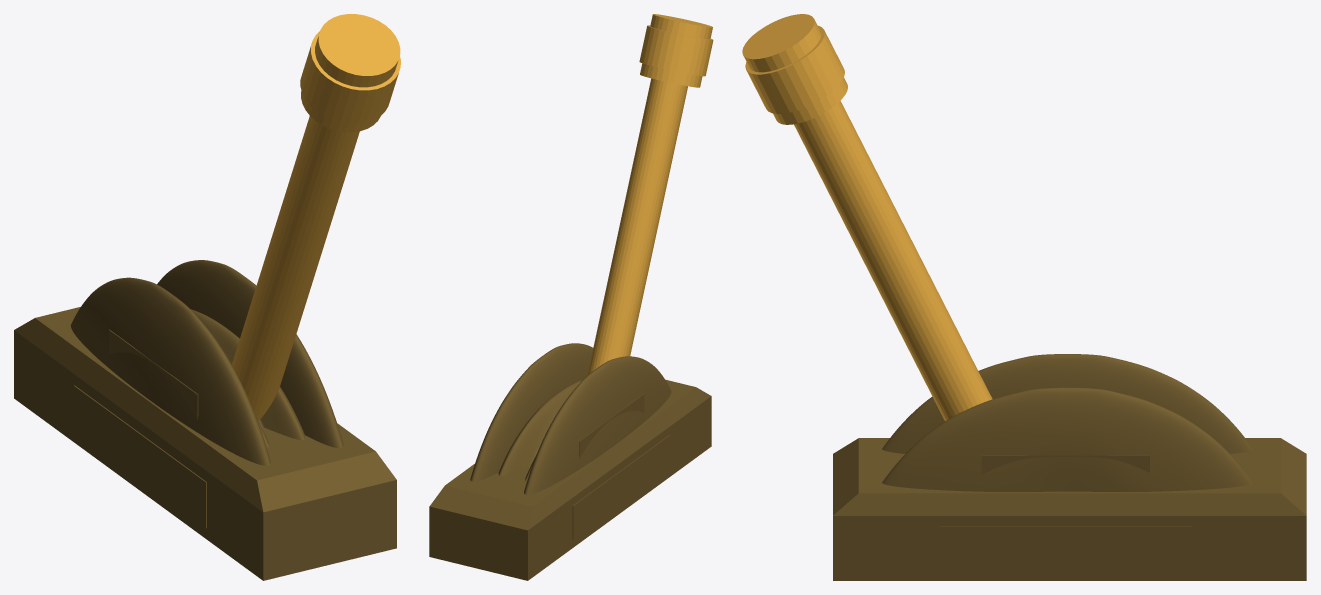
The model's file is Lever.fbx.
3 views of the same model, side by side, from view 1: azimuth 30°, elevation 25°; view 2: azimuth 150°, elevation 25°; view 3: azimuth 270°, elevation 25° (orthographic). The views are drawn at different scales.
Visible parts, largest first — view 1: Lever base, Handle; view 2: Lever base, Handle; view 3: Lever base, Handle.
Boxes of the visible parts, x1=… form: Lever base: x1=14, y1=260, x2=396, y2=580; Handle: x1=232, y1=14, x2=400, y2=419; Lever base: x1=429, y1=343, x2=711, y2=580; Handle: x1=587, y1=14, x2=713, y2=375; Lever base: x1=833, y1=354, x2=1306, y2=580; Handle: x1=742, y1=14, x2=992, y2=421.
Size of the model in its own units: 93.81 by 366 by 354.
